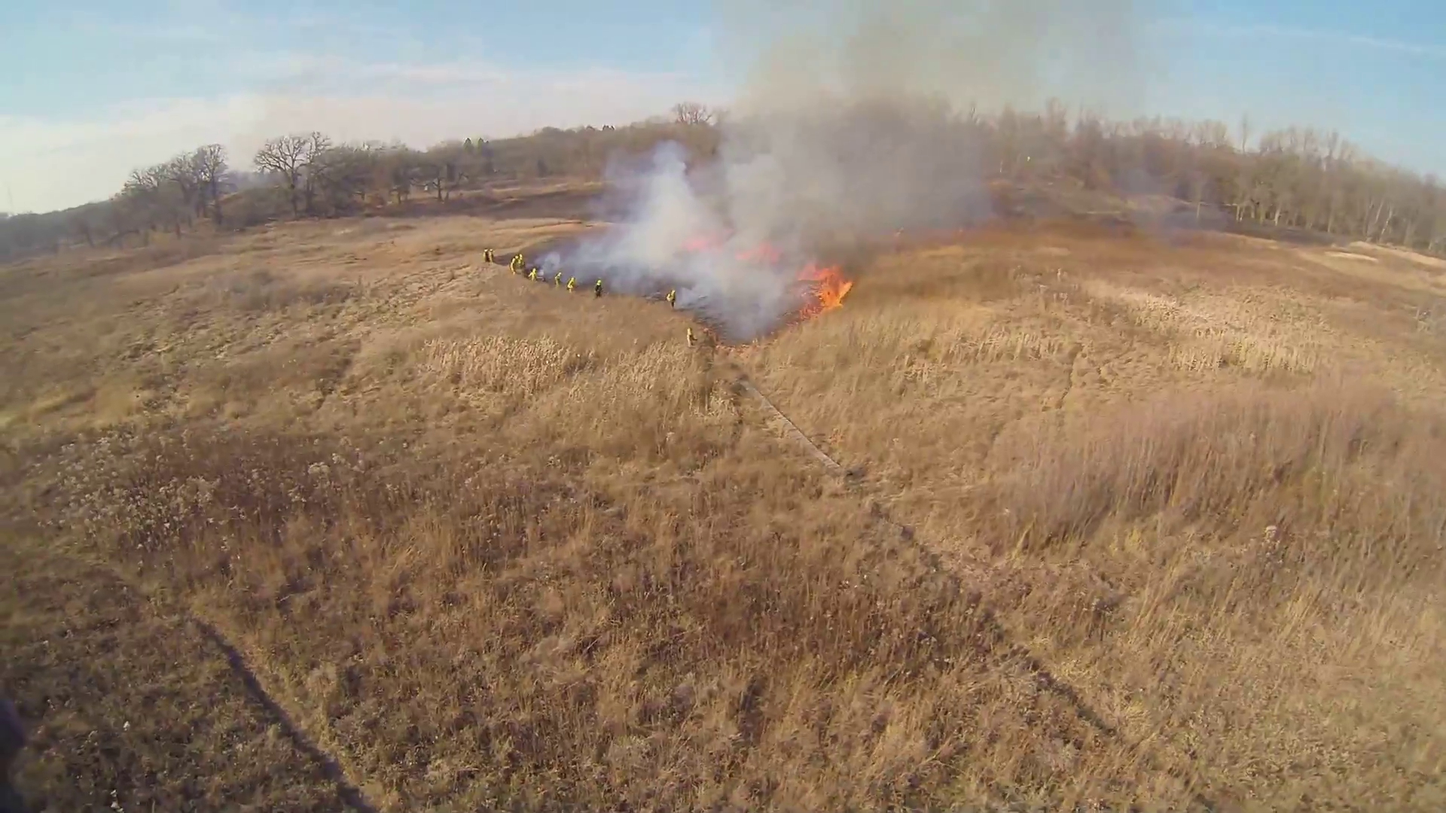forest_fire: (798, 263, 853, 318)
